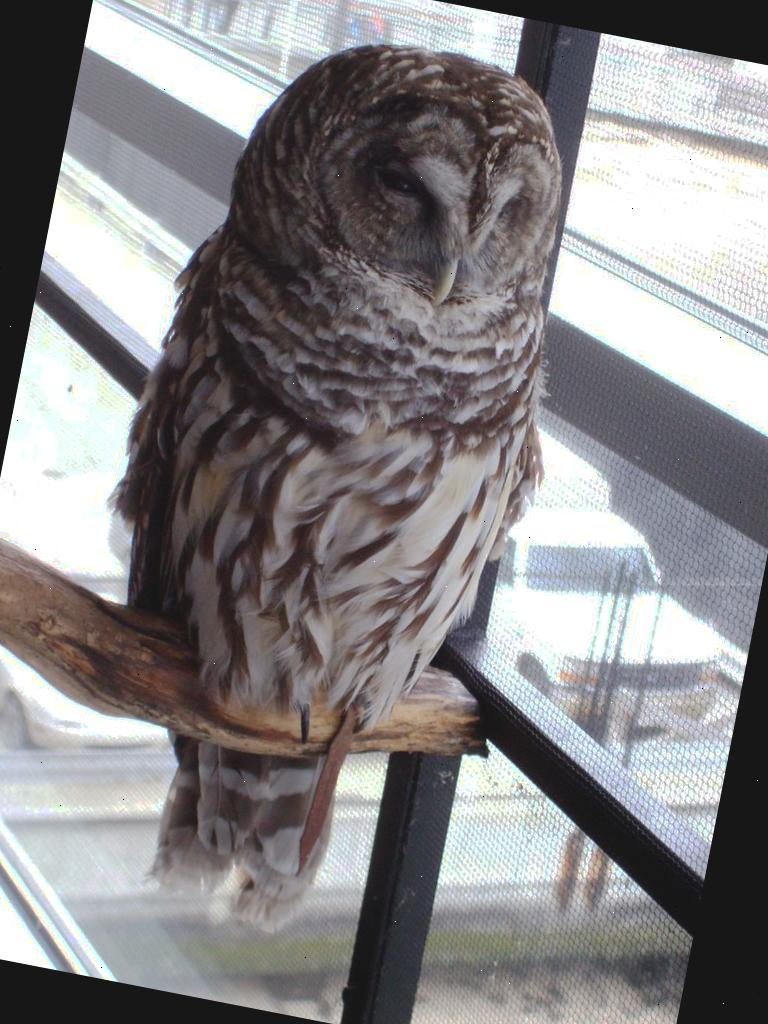Owl: (38, 7, 622, 971)
